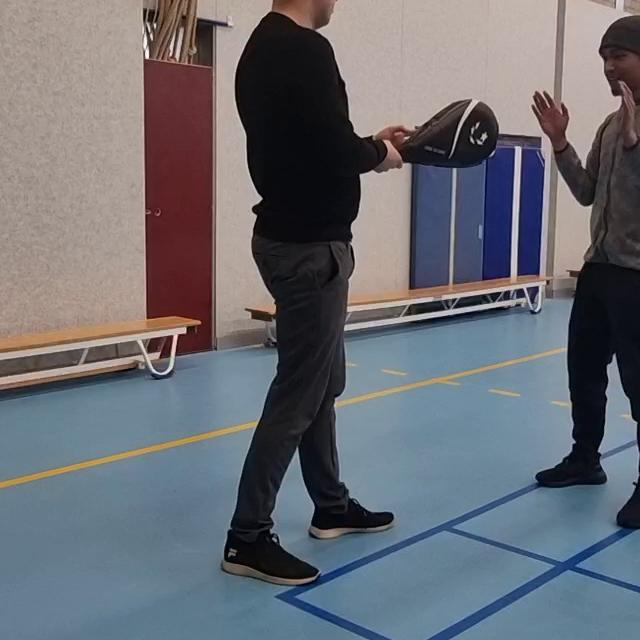paddle: (387, 97, 505, 172)
